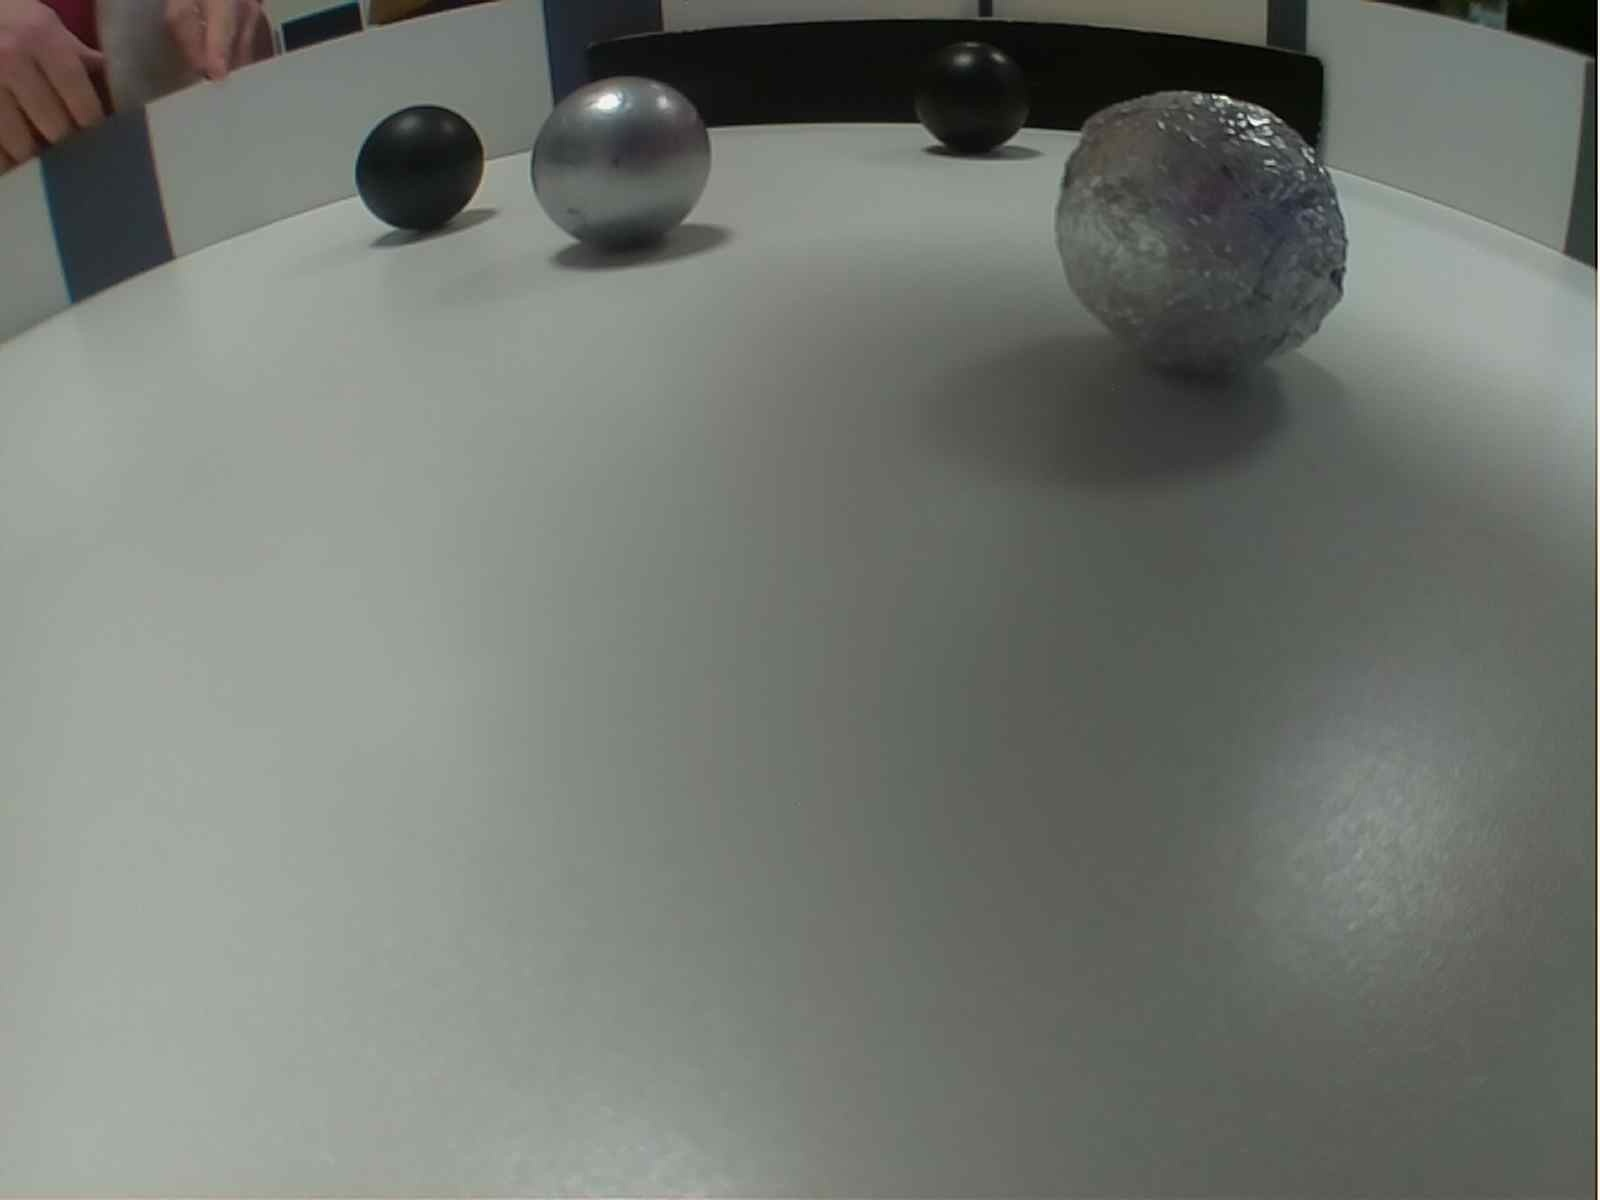bianca: (1049, 91, 1353, 389), (533, 77, 716, 256)
nera: (351, 102, 488, 234), (918, 42, 1029, 160)
